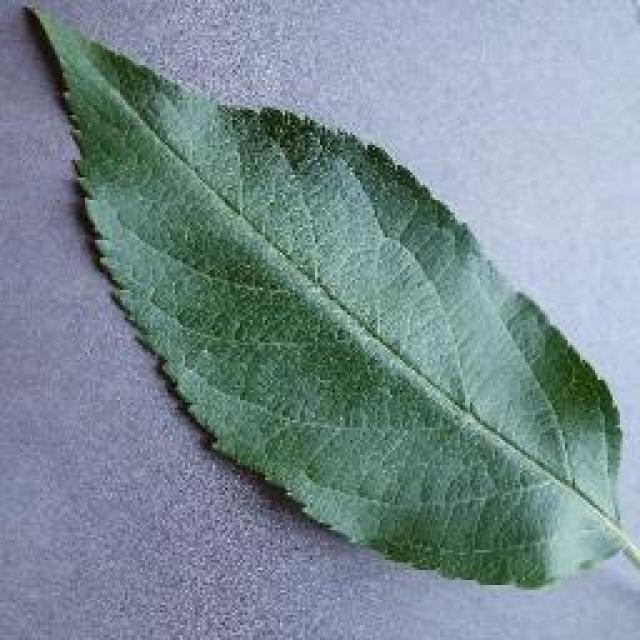apple healthy: (18, 0, 638, 595)
